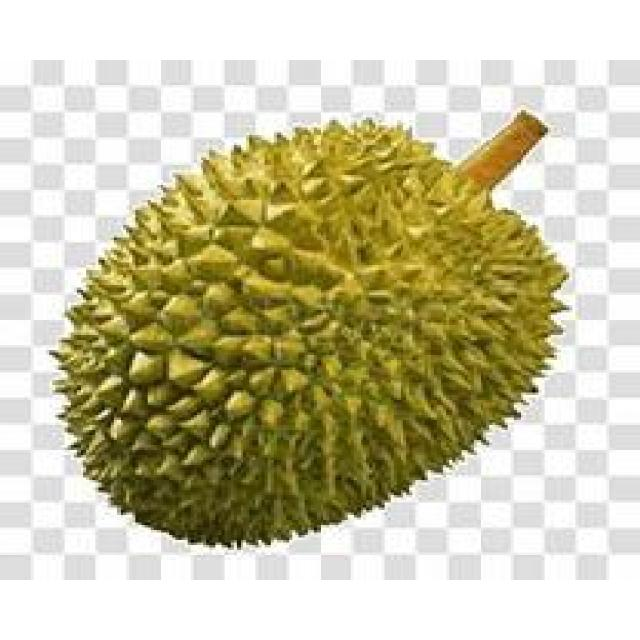fruit: (237, 130, 618, 565), (12, 225, 397, 575)
